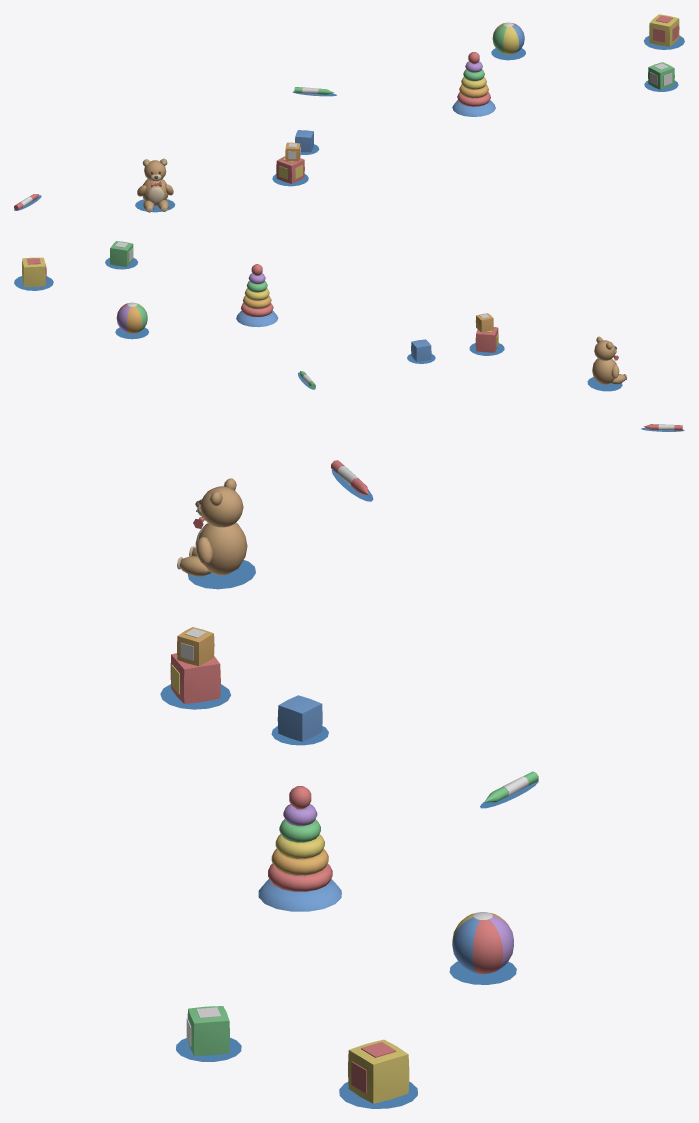
File: toy-near.glb
3 views of the same model, one above another, from view 1: azimuth 30°, elevation 25°; view 2: azimuth 150°, elevation 25°; view 3: azimuth 270°, elevation 25° (orthographic). The views are drawn at different scales.
Parts seen in each view (by area): view 1: toy-near; view 2: toy-near; view 3: toy-near.
Part boxes in pixels (left/top/right/bottom): toy-near: left=14, top=14, right=684, bottom=212; toy-near: left=14, top=241, right=684, bottom=431; toy-near: left=160, top=460, right=538, bottom=1108.
Bounding box in the file's own units: 58.05 × 4.53 × 14.49.
